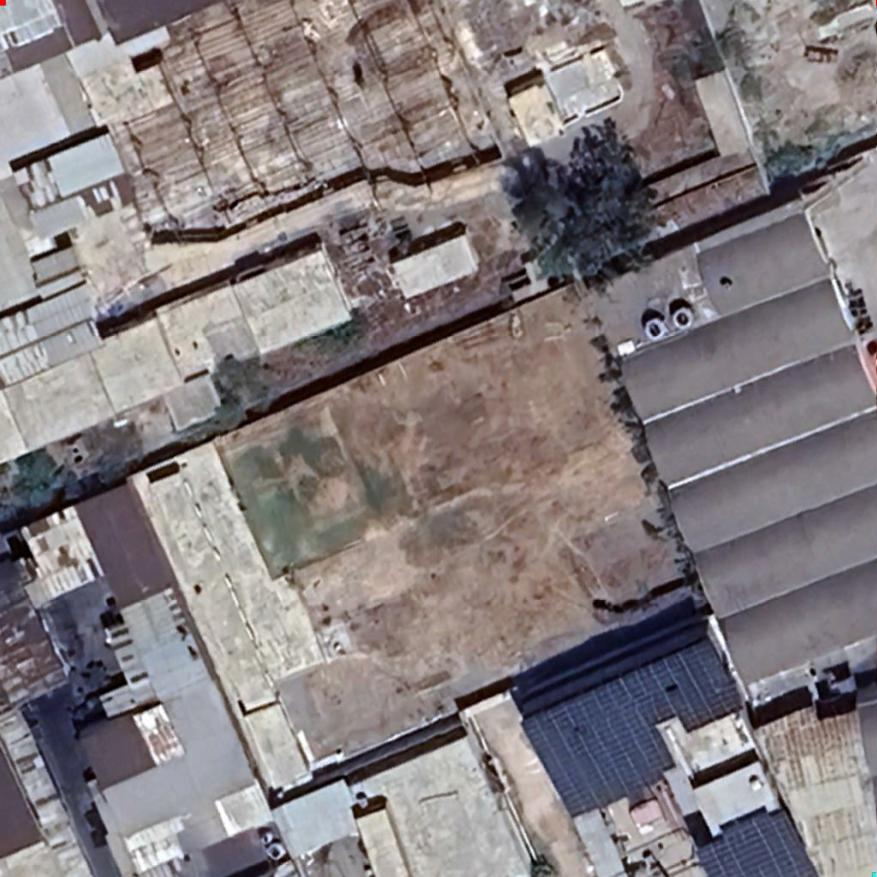Solarpanel: (517, 635, 758, 822), (693, 803, 825, 876)
